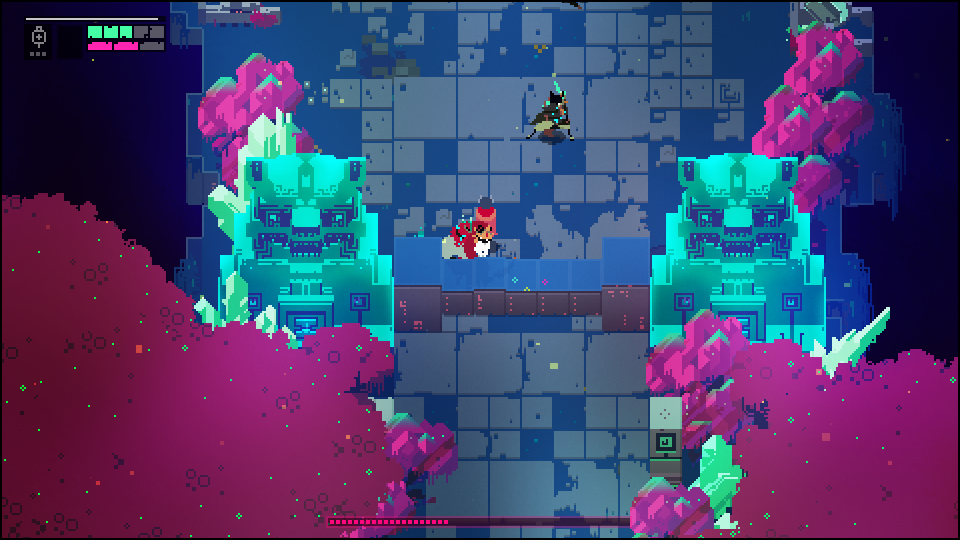hanged_man: (435, 220, 500, 264)
player: (472, 190, 499, 221)
